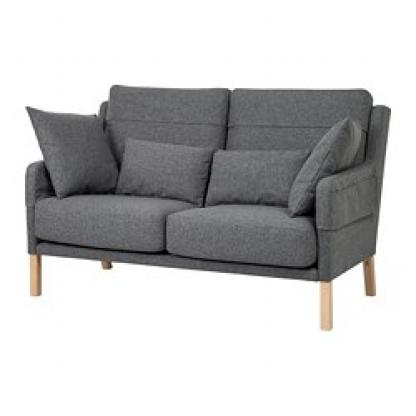Sofa: (21, 70, 392, 338)
